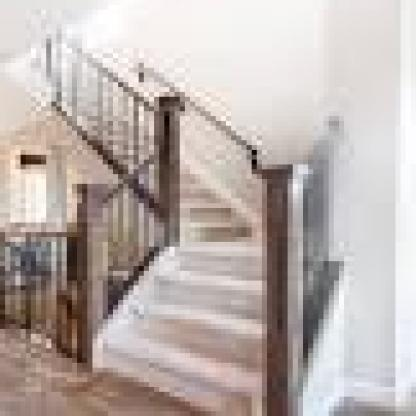stair: (95, 219, 291, 416)
